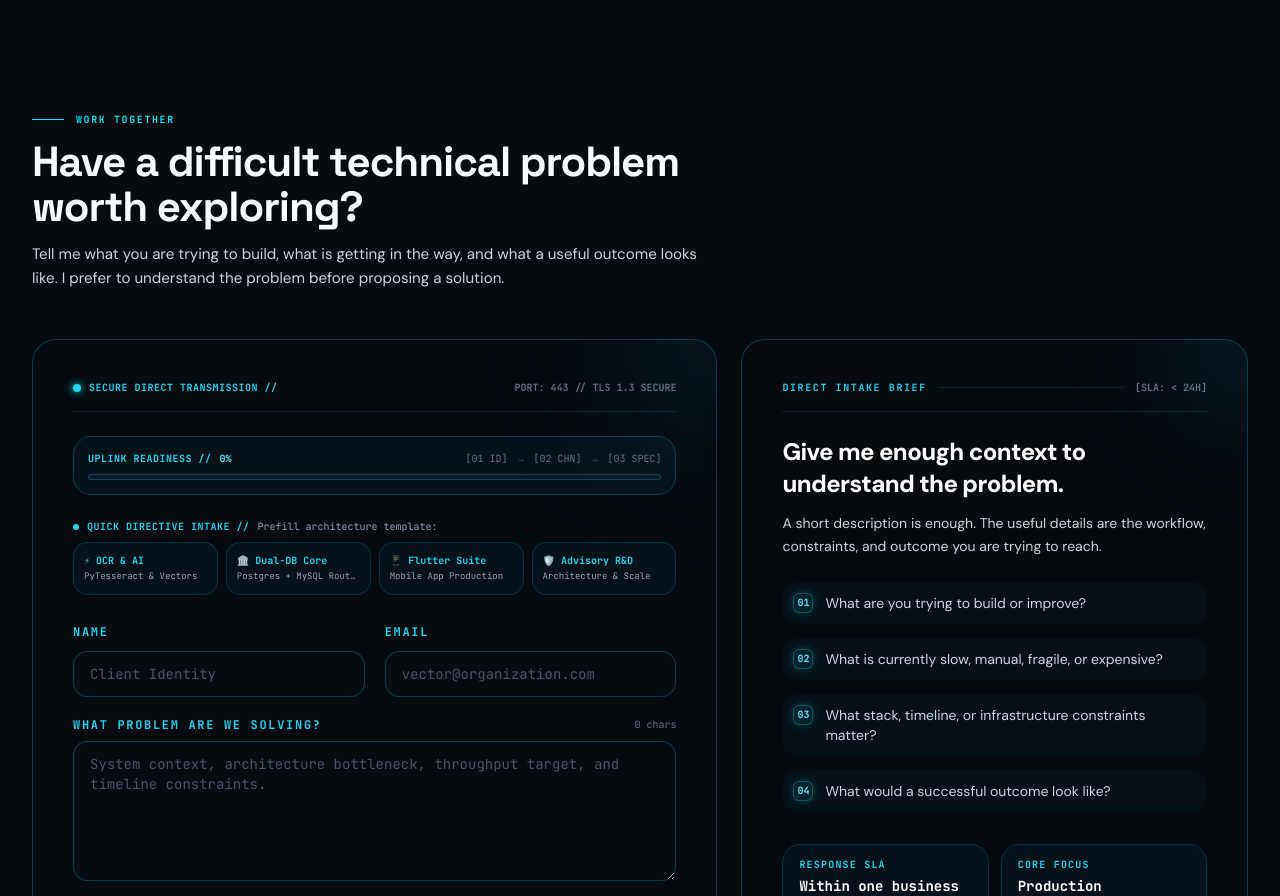
ContactForm › submits exact payload contract on 200 and renders success status
In the field labelled "Name": (219, 674) [73,651,365,697], type " Meghraj "
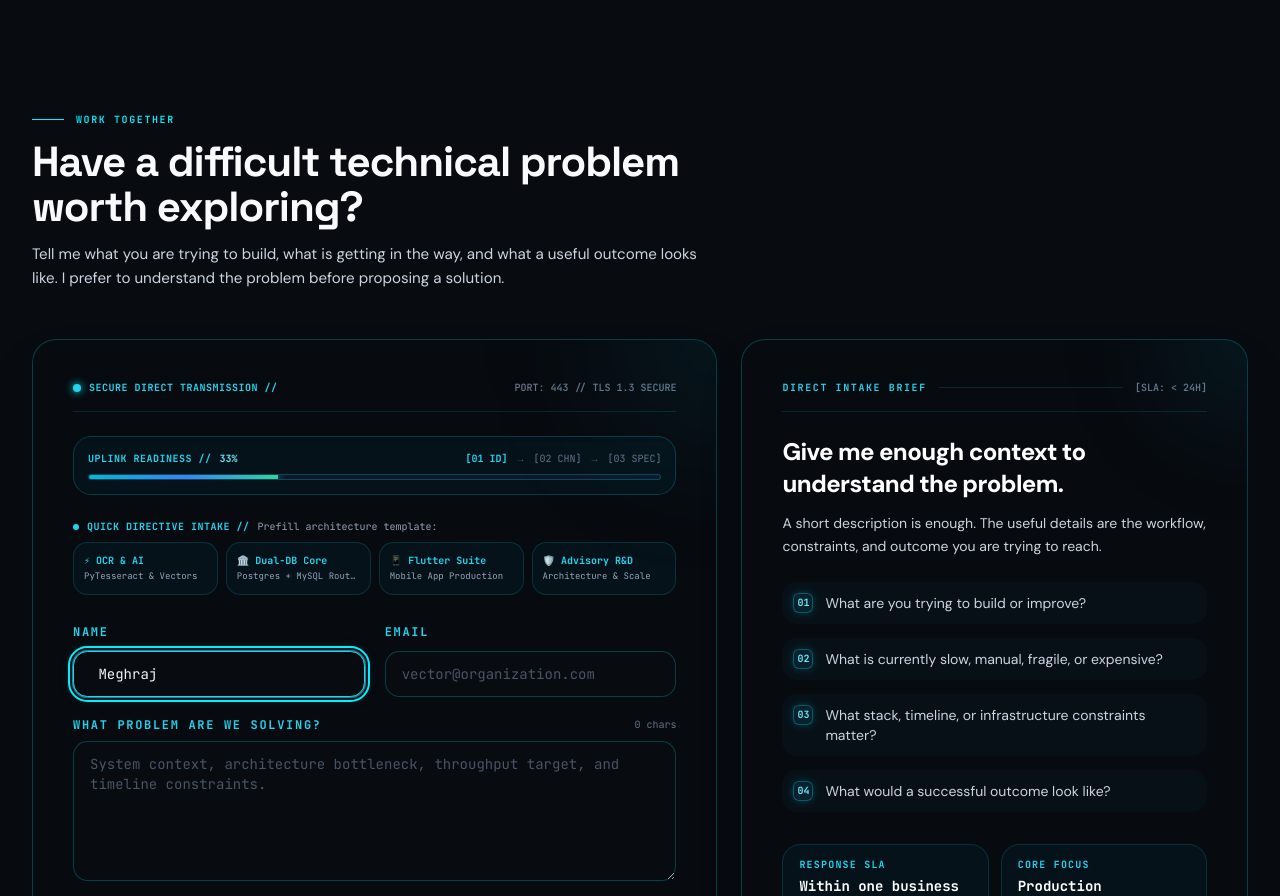
In the field labelled "Email": (531, 674) [385,651,676,697], type " meghraj@example.com "
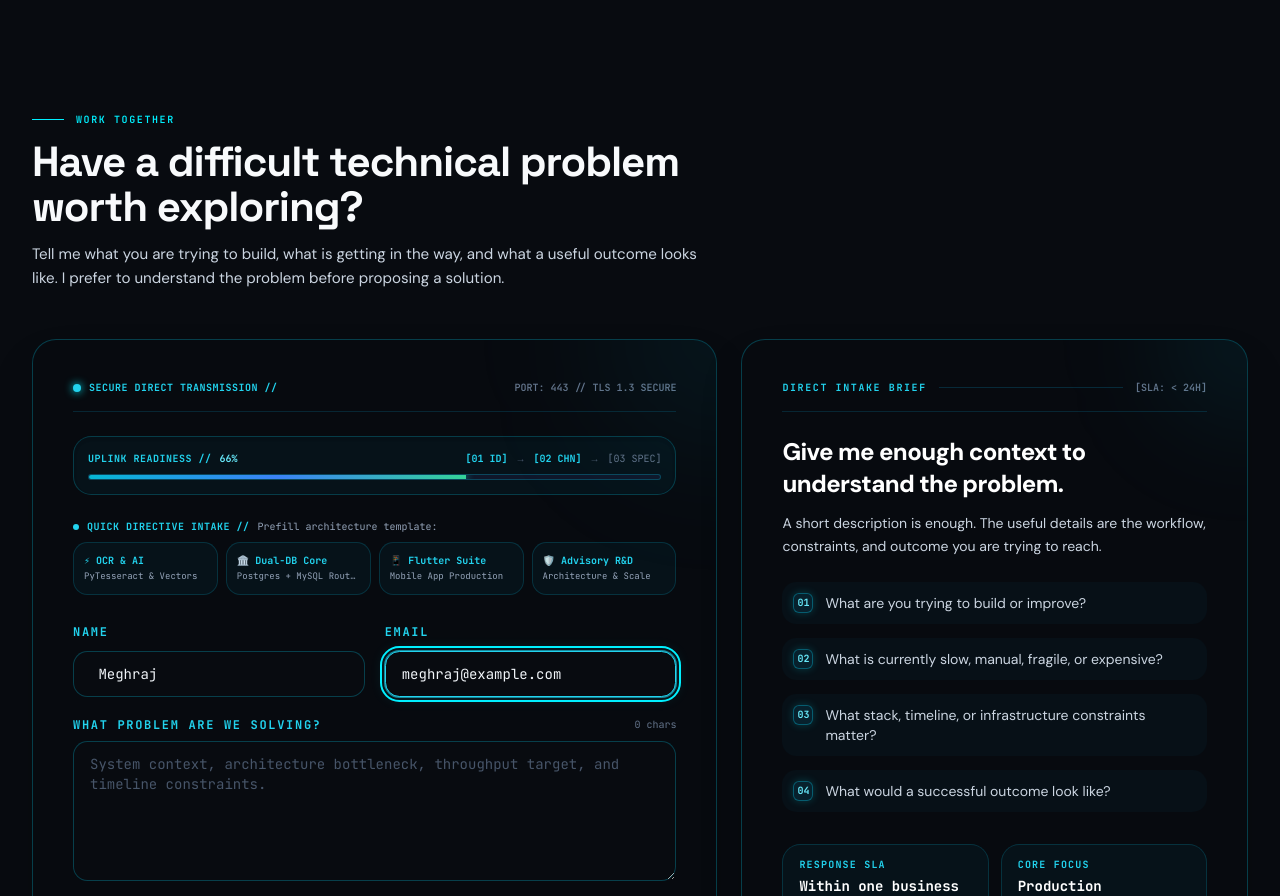
In the text box labelled "What problem are we solving?": (375, 811) [73,741,676,881], type " Need help with API performance and rollout reliability. "
(page scrolled)
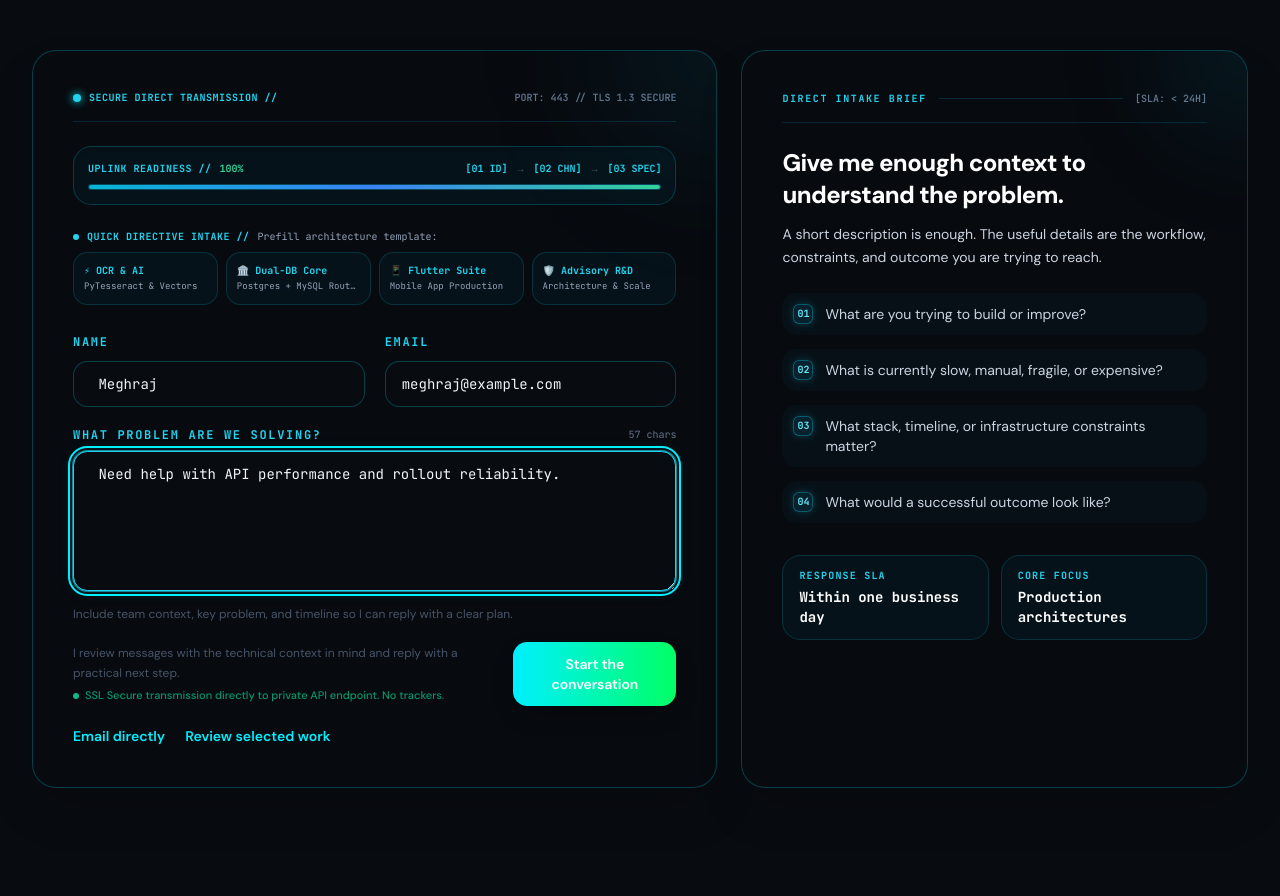
Click the button "Start the conversation": (595, 674) [513,642,676,706]
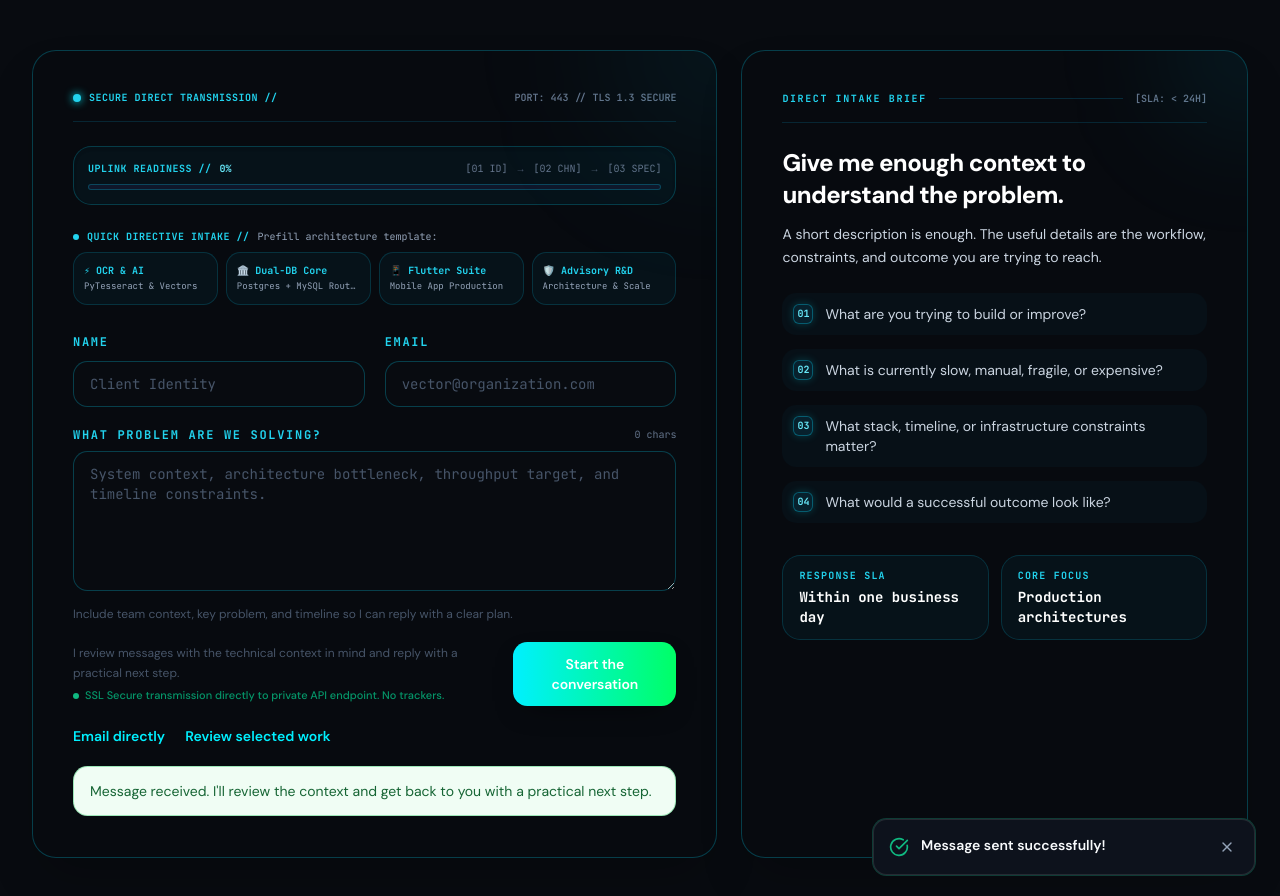
Expected: the message is shown, [73,766,676,816]
